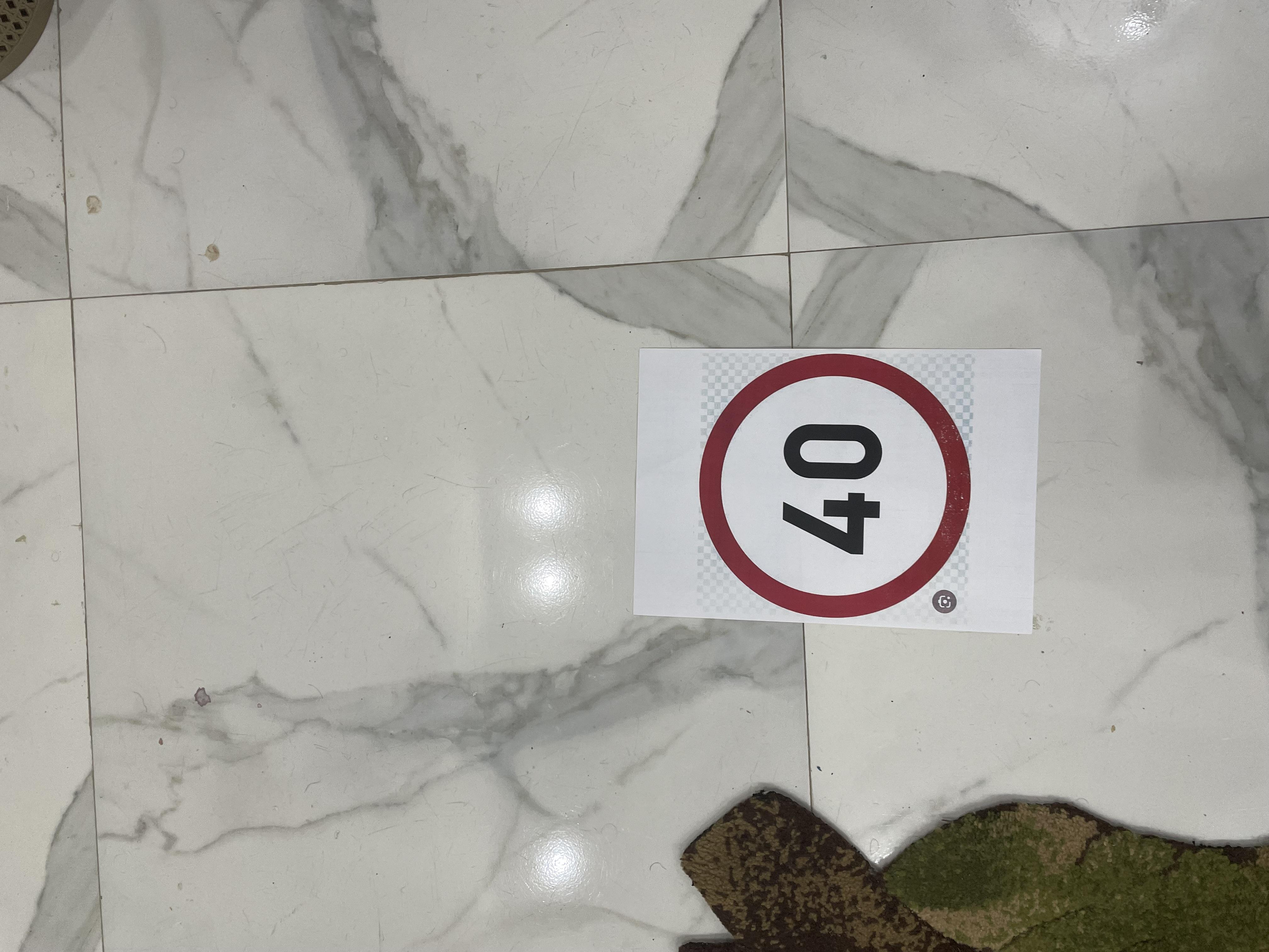40-Speed: (433, 515, 818, 734)
